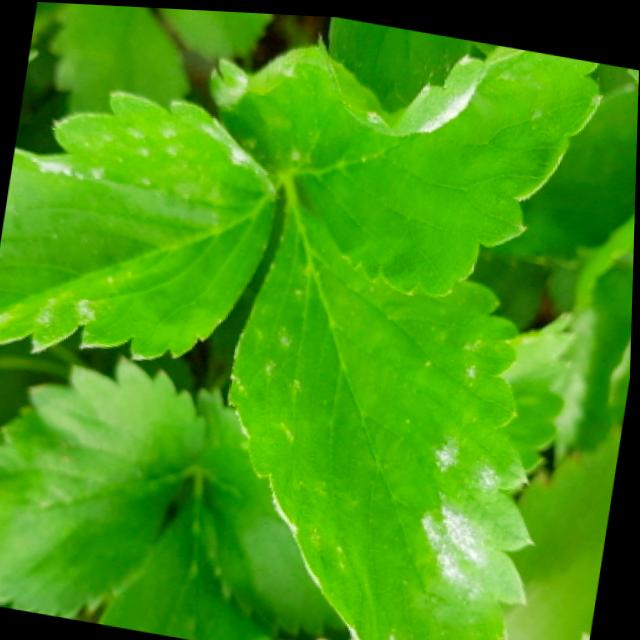Powdery Mildew Leaf: (229, 179, 539, 640), (207, 34, 607, 295), (0, 87, 281, 360)
